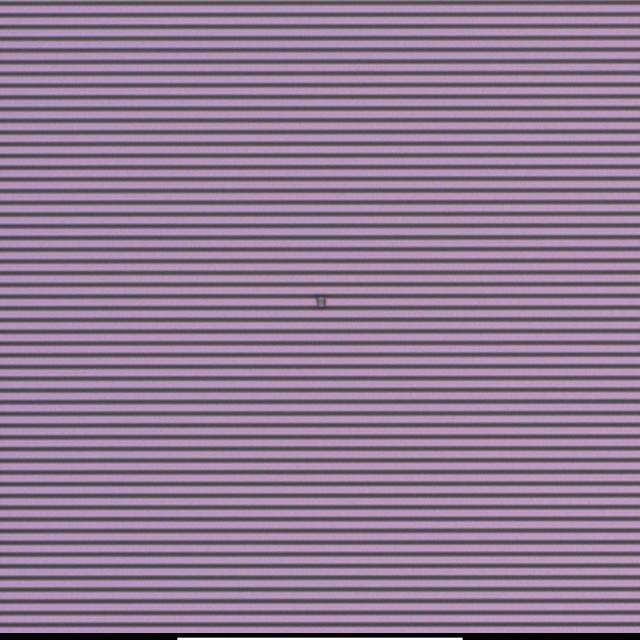03_intrusion: (309, 291, 331, 312)
